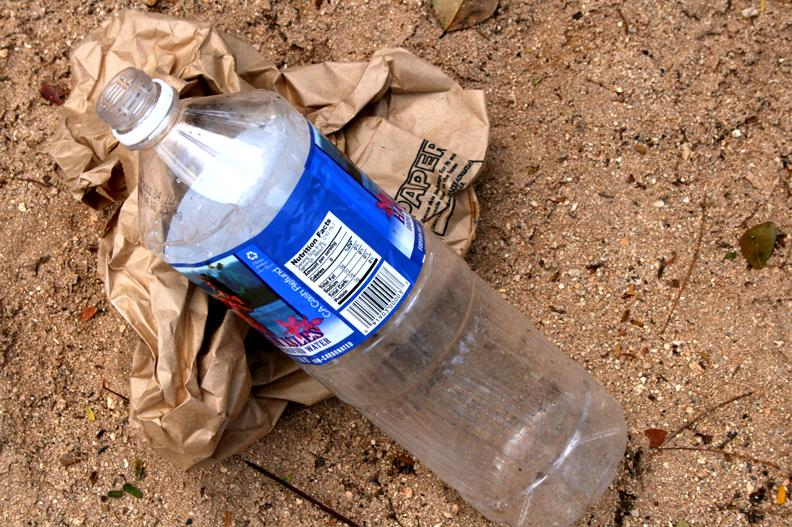bottle: (84, 65, 652, 527)
